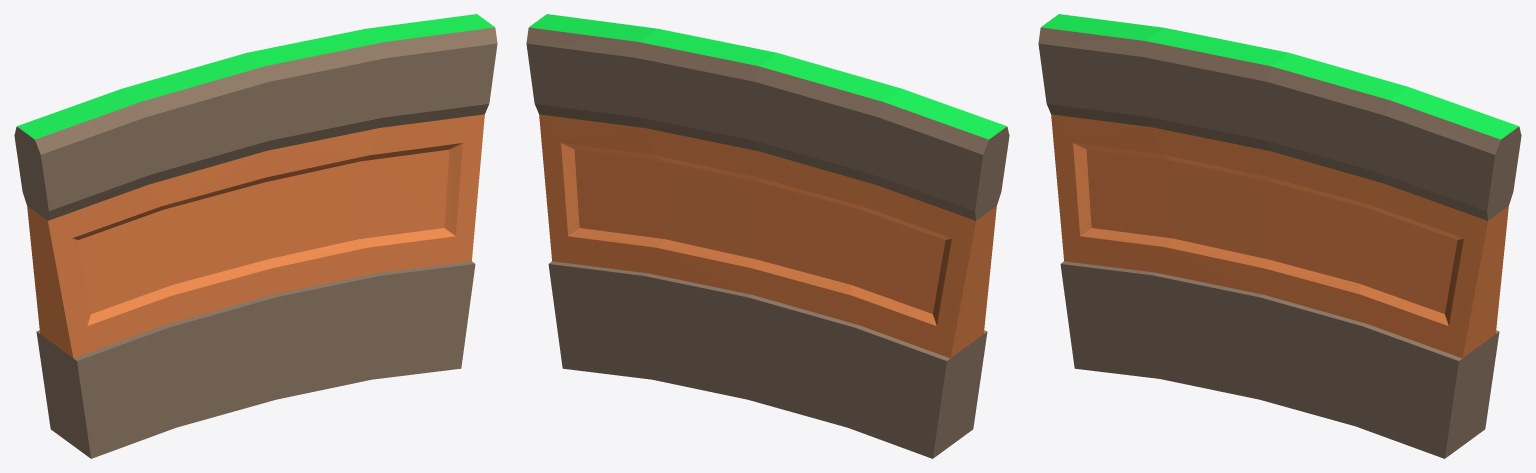
Rendered from Wall.FBX.
3 views of the same model, side by side, from view 1: azimuth 30°, elevation 25°; view 2: azimuth 150°, elevation 25°; view 3: azimuth 330°, elevation 25° (orthographic).
Visible parts, largest first — view 1: wall; view 2: wall; view 3: wall.
Part boxes in pixels (x1,y1,x2,y2): wall: (14, 14, 497, 458); wall: (526, 14, 1009, 458); wall: (1038, 14, 1521, 458).
Size of the model in its own units: 1.54 by 0.2355 by 1.09.
